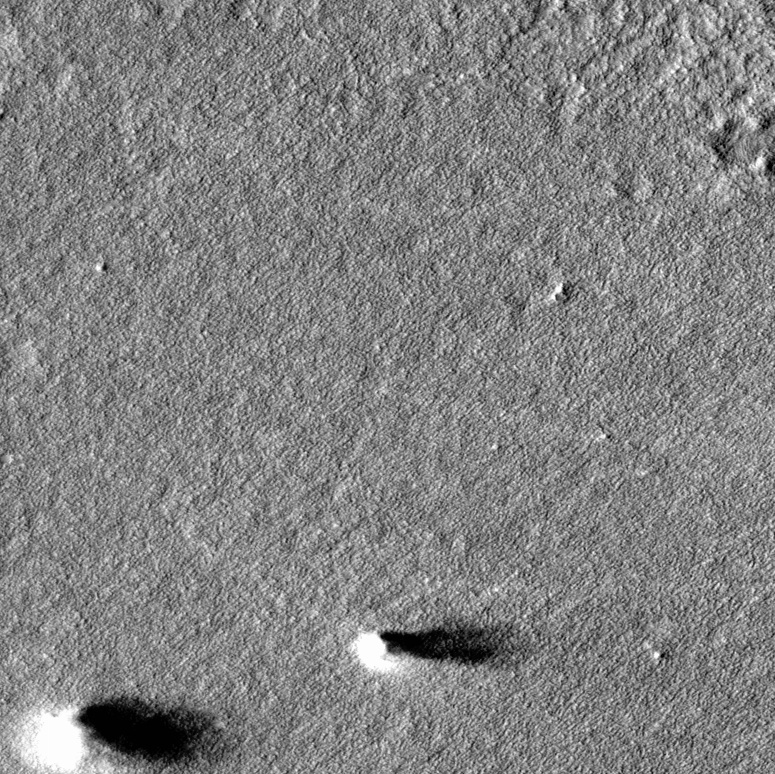dust_devil: (9, 696, 234, 774), (345, 619, 530, 678)
